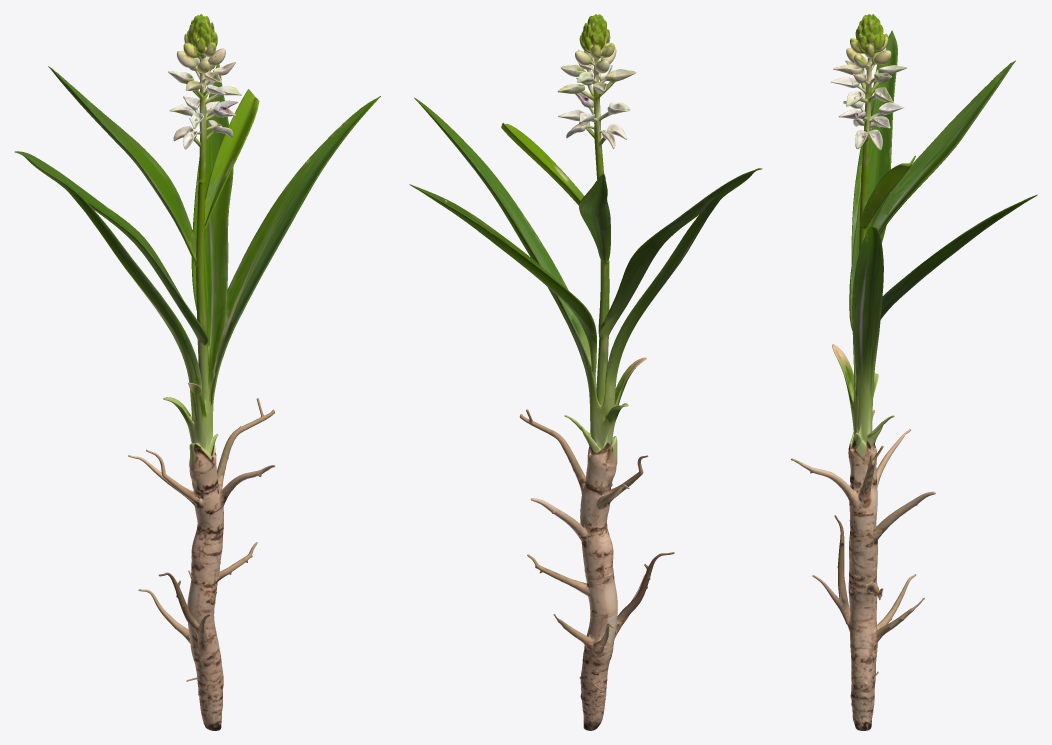
The model's file is shanjiang.glb.
The picture shows the model from 3 angles, left to right: view 1: azimuth 30°, elevation 25°; view 2: azimuth 150°, elevation 25°; view 3: azimuth 270°, elevation 25°; orthographic projection.
Visible parts, largest first — view 1: node_0; view 2: node_0; view 3: node_0.
Part boxes in pixels (box(x1,y1,x2,y2)): node_0: box(14, 14, 380, 730); node_0: box(409, 14, 762, 730); node_0: box(791, 14, 1037, 730).
Size of the model in its own units: 0.6227 by 1.19 by 0.3754.
Materials: 1 (1 with a texture image).
